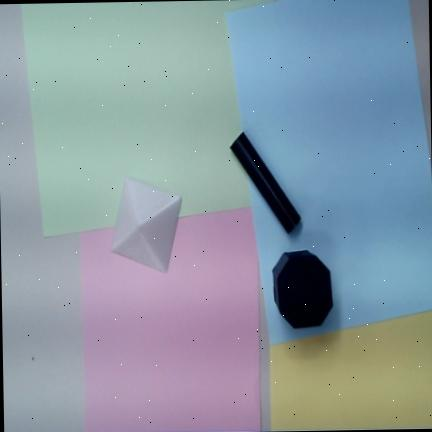Cilindro: (229, 130, 302, 234)
Piramide: (110, 176, 182, 274)
Prisma_hexagonal: (272, 250, 332, 329)
